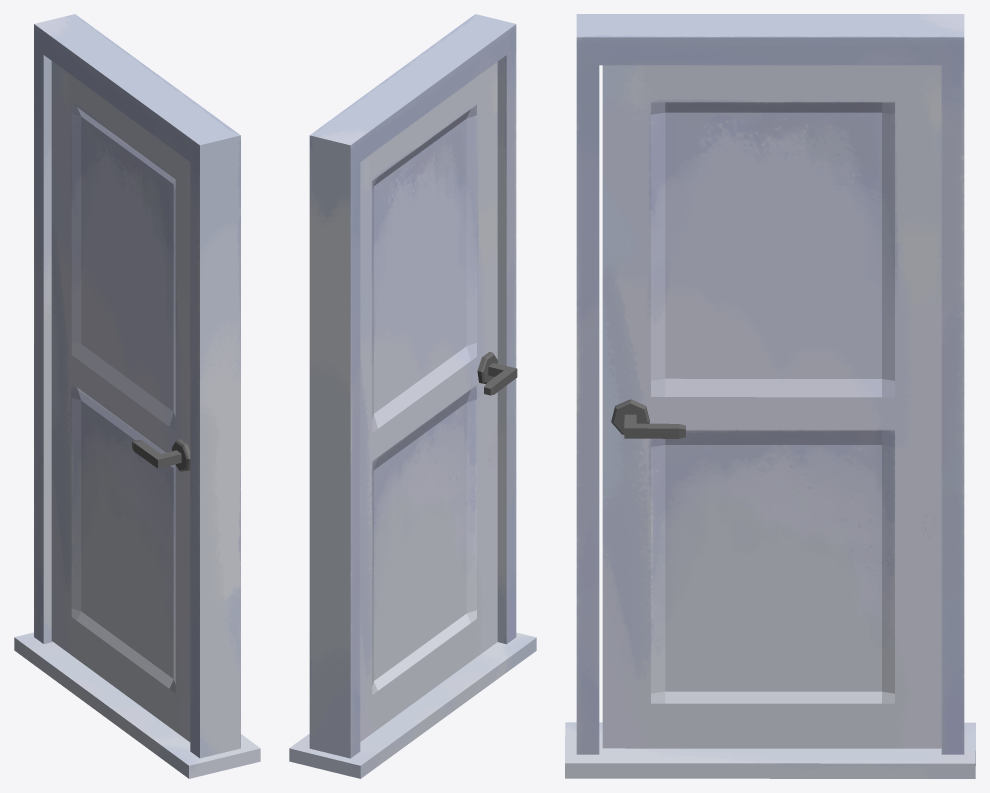
The model's file is Door01.fbx.
3 renders of one model, left to right at view 1: azimuth 30°, elevation 25°; view 2: azimuth 150°, elevation 25°; view 3: azimuth 270°, elevation 25°, orthographic. The views are drawn at different scales.
Parts seen in each view (by area): view 1: Door01, Doorframe01; view 2: Door01, Doorframe01; view 3: Door01, Doorframe01.
Boxes of the visible parts, x1,y1,x2,y2 form: Door01: (51,61,190,741); Doorframe01: (14,14,260,778); Door01: (360,62,517,741); Doorframe01: (289,14,536,778); Door01: (602,65,941,748); Doorframe01: (565,14,975,778).
Size of the model in its own units: 2.34 by 16.72 by 8.5.
2 materials, 1 textured.
